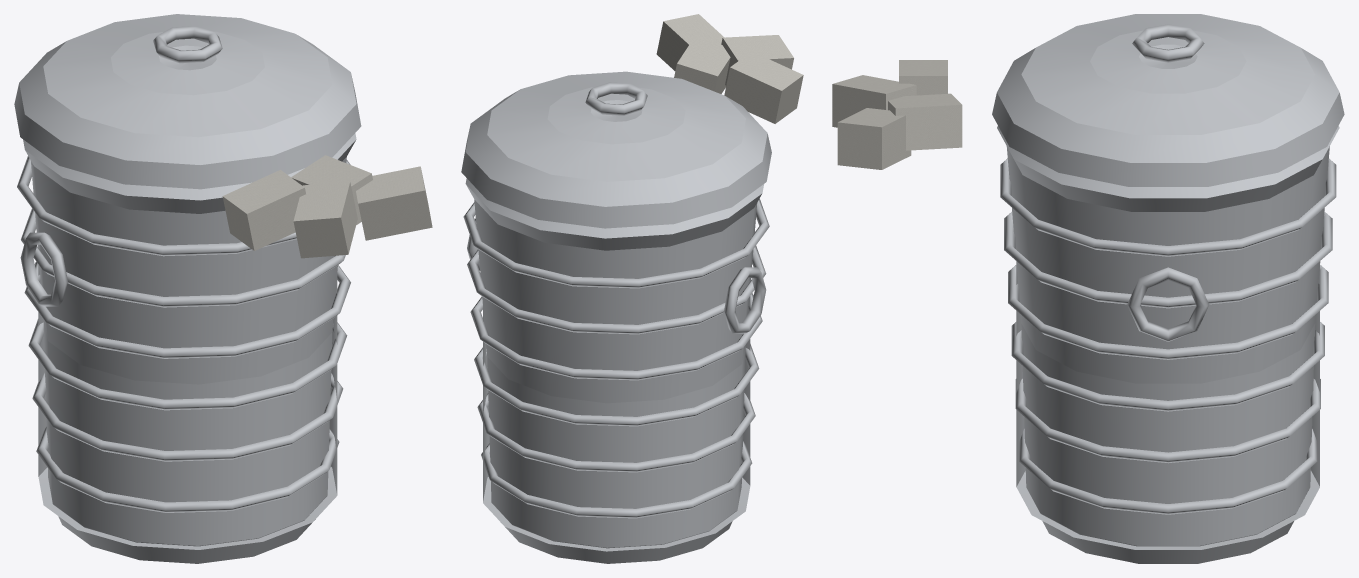
Rendered from metal-trash-can.glb.
The picture shows the model from 3 angles, left to right: view 1: azimuth 30°, elevation 25°; view 2: azimuth 150°, elevation 25°; view 3: azimuth 270°, elevation 25°; orthographic projection. The views are drawn at different scales.
Parts seen in each view (by area): view 1: metal-trash-can, bin-lid; view 2: metal-trash-can, bin-lid; view 3: metal-trash-can, bin-lid.
Part boxes in pixels (<box>): metal-trash-can: <box>17,133,432,563</box>; bin-lid: <box>14,14,361,189</box>; metal-trash-can: <box>463,14,803,563</box>; bin-lid: <box>461,71,771,228</box>; metal-trash-can: <box>832,60,1339,563</box>; bin-lid: <box>992,14,1344,186</box>.
Bounding box in the file's own units: 0.7066 × 1.06 × 1.05.
2 materials, 1 textured.
